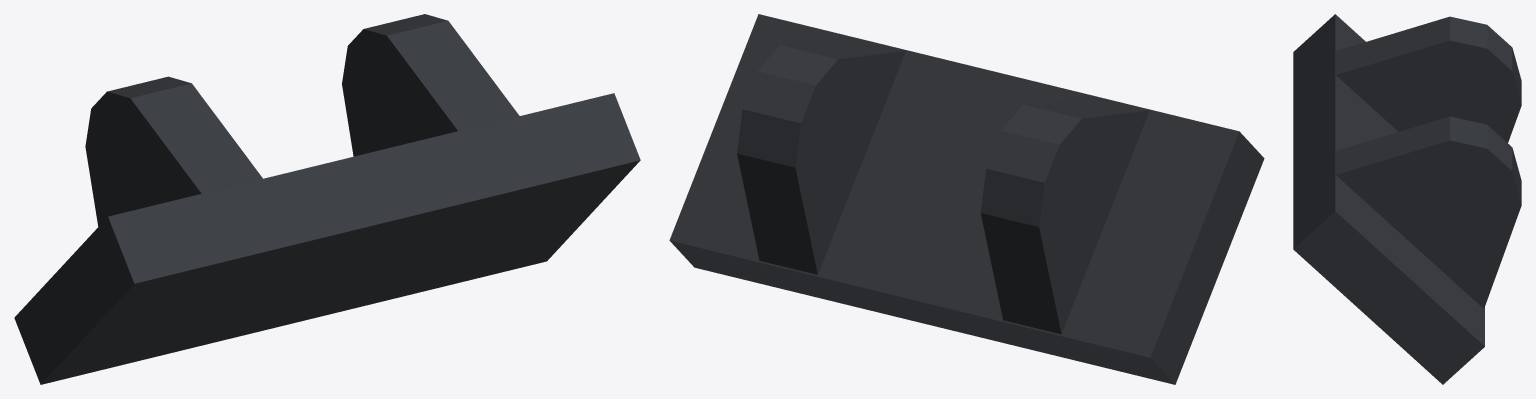
The model's file is SM_Veh_Excavator_02_Auger_01.obj.
The picture shows the model from 3 angles, left to right: view 1: azimuth 30°, elevation 25°; view 2: azimuth 150°, elevation 25°; view 3: azimuth 270°, elevation 25°; orthographic projection. The views are drawn at different scales.
Visible parts, largest first — view 1: SM_Veh_Excavator_02_Auger_01_0; view 2: SM_Veh_Excavator_02_Auger_01_0; view 3: SM_Veh_Excavator_02_Auger_01_0.
Part boxes in pixels (left/top/right/bottom): SM_Veh_Excavator_02_Auger_01_0: left=14, top=14, right=640, bottom=384; SM_Veh_Excavator_02_Auger_01_0: left=669, top=14, right=1264, bottom=384; SM_Veh_Excavator_02_Auger_01_0: left=1293, top=14, right=1521, bottom=384.
Bounding box in the file's own units: 0.4231 × 0.208 × 0.2073.
1 material, 1 textured.
